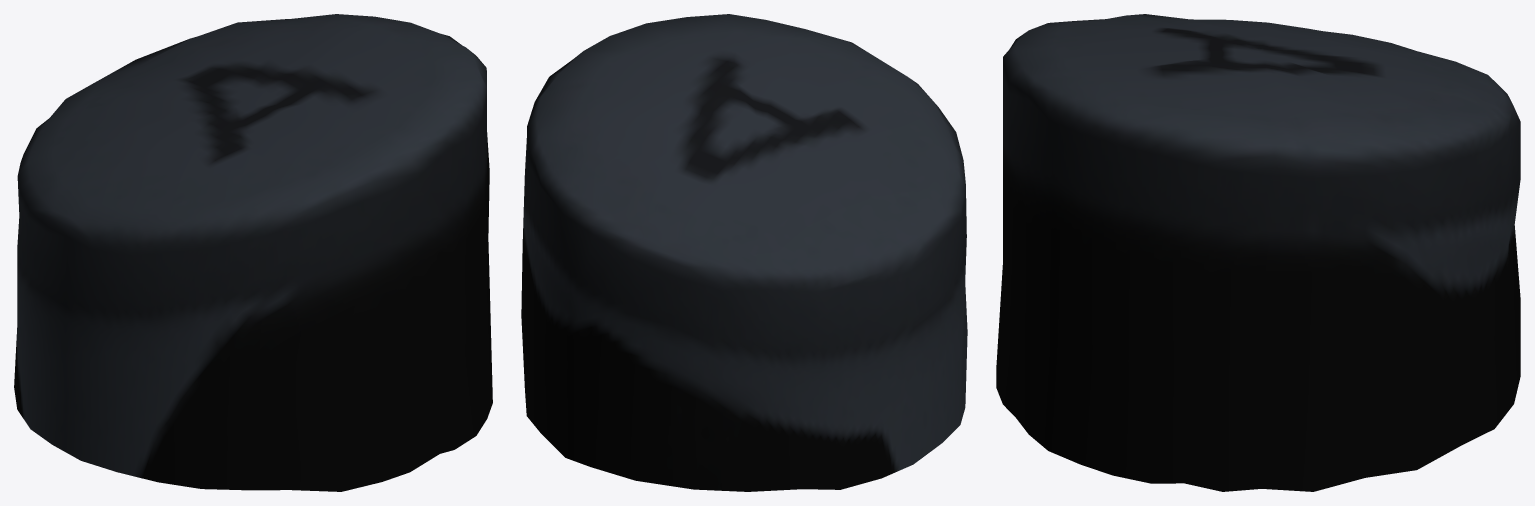
Rendered from right_a_button.obj.
3 renders of one model, left to right at view 1: azimuth 30°, elevation 25°; view 2: azimuth 150°, elevation 25°; view 3: azimuth 270°, elevation 25°, orthographic. The views are drawn at different scales.
Visible parts, largest first — view 1: right_a_button; view 2: right_a_button; view 3: right_a_button.
Boxes of the visible parts, <box> form: right_a_button: <box>14,14,492,491</box>; right_a_button: <box>521,14,967,491</box>; right_a_button: <box>996,14,1520,491</box>.
Bounding box in the file's own units: 0.0081 × 0.006 × 0.0081.
Materials: 1 (1 with a texture image).
